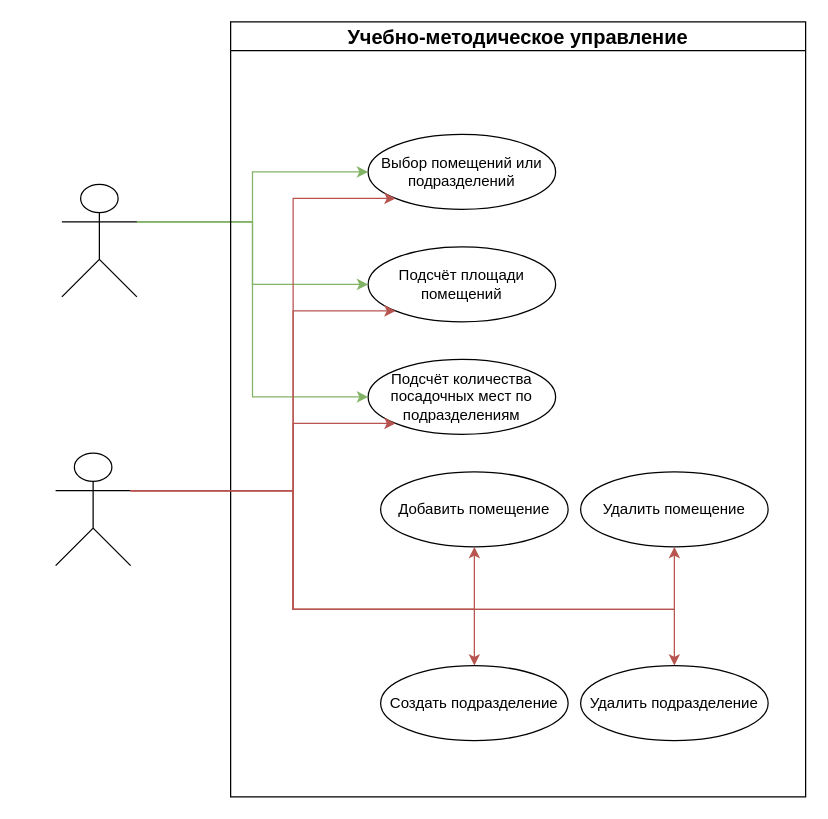
Image size: 828x819. Some labels were removed from this diagram. The centre of each missing label's shape, as x and y in pixels:
"Авторизованный пользователь" goes at (99,240).
"Администратор" goes at (92,509).
